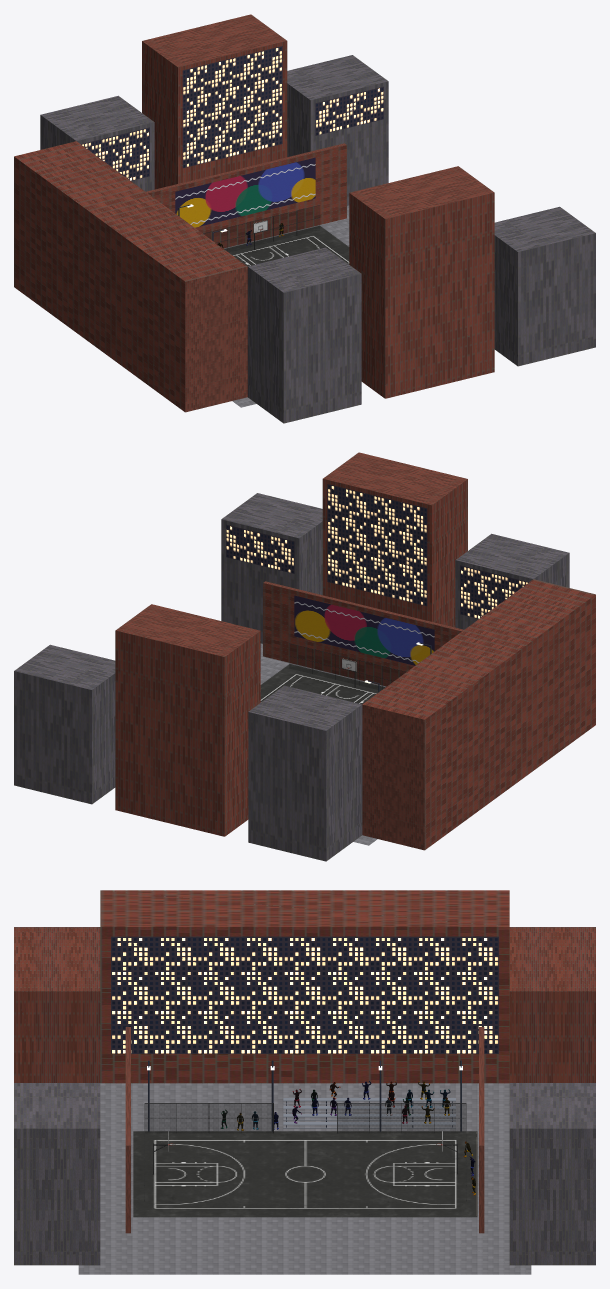
File: court.v4.glb
3 renders of one model, top to bottom at view 1: azimuth 30°, elevation 25°; view 2: azimuth 150°, elevation 25°; view 3: azimuth 270°, elevation 25°, orthographic. The views are drawn at different scales.
Parts seen in each view (by area): view 1: far_building, building_1_1, building_1_0, building_1_2, building_0_1, facade_0_1, building_0_2, end_wall_0, mural, building_0_0, court, Fence (+3 smaller); view 2: far_building, building_0_1, building_0_0, building_0_2, building_1_1, facade_1_1, building_1_2, end_wall_1, mural_far, building_1_0, court, Fence (+3 smaller); view 3: far_facade, paving, far_building, court, building_0_2, building_1_2, building_0_1, building_1_1, Fence, crowd, end_wall_0, end_wall_1 (+5 smaller).
Boxes of the visible parts, x1,y1,x2,y2 form: far_building: [14, 141, 247, 412]; building_1_1: [349, 166, 494, 398]; building_1_0: [247, 247, 361, 423]; building_1_2: [494, 206, 595, 366]; building_0_1: [142, 14, 287, 189]; facade_0_1: [182, 46, 282, 168]; building_0_2: [287, 55, 388, 205]; end_wall_0: [146, 143, 346, 248]; mural: [175, 157, 315, 227]; building_0_0: [40, 95, 154, 191]; court: [224, 225, 349, 266]; Fence: [204, 206, 319, 251]; far_building: [362, 579, 595, 850]; building_0_1: [115, 604, 260, 836]; building_0_0: [248, 685, 362, 861]; building_0_2: [14, 644, 115, 804]; building_1_1: [322, 452, 467, 627]; facade_1_1: [327, 484, 427, 606]; building_1_2: [221, 493, 322, 643]; end_wall_1: [263, 581, 463, 686]; mural_far: [294, 595, 434, 665]; building_1_0: [455, 533, 569, 629]; court: [260, 664, 384, 704]; Fence: [289, 644, 405, 690]; far_facade: [111, 936, 498, 1053]; paving: [78, 1083, 531, 1274]; far_building: [100, 890, 509, 1083]; court: [133, 1131, 477, 1217]; building_0_2: [509, 1083, 595, 1265]; building_1_2: [14, 1083, 100, 1265]; building_0_1: [509, 927, 595, 1082]; building_1_1: [14, 927, 100, 1082]; Fence: [145, 1104, 465, 1132]; crowd: [220, 1081, 475, 1195]; end_wall_0: [479, 1027, 484, 1233]; end_wall_1: [125, 1027, 130, 1233].
Size of the model in its own units: 50 by 22.15 by 54.
13 materials, 10 textured.
